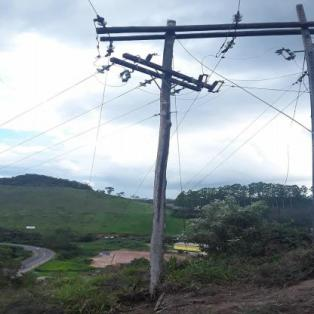Poste: (143, 19, 180, 297)
